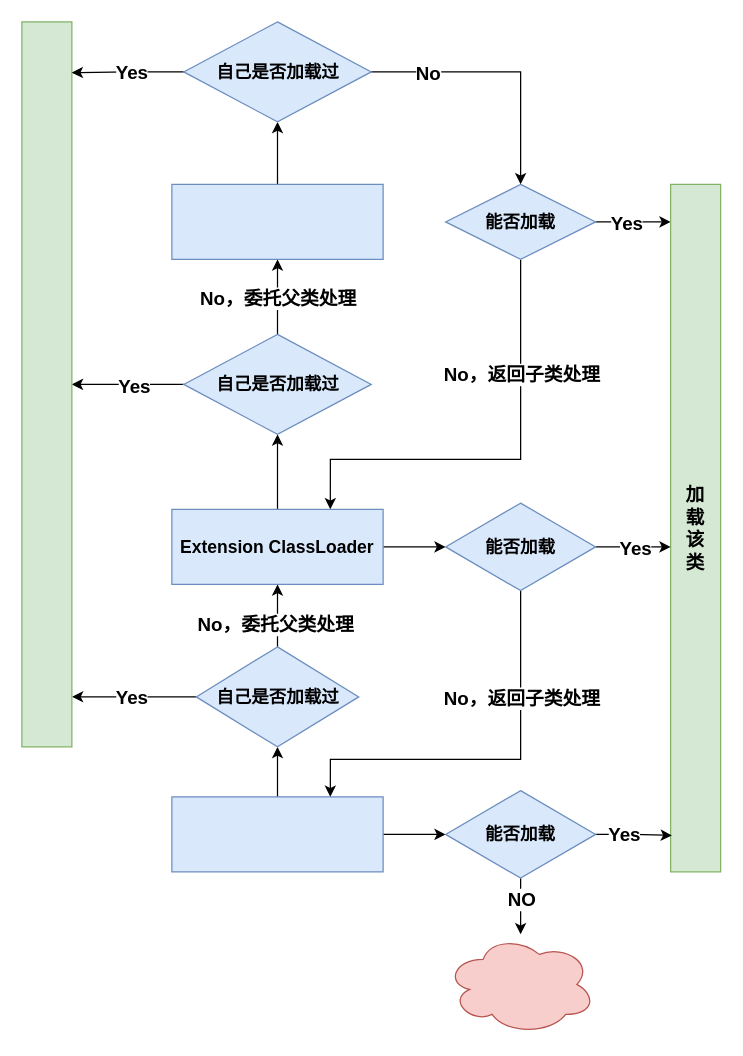
Image size: 743x1056. Some labels were removed from this diagram. The box of each missing label's shape, as (x1, y1, x2, y2) in pixels:
Application ClassLoader: (171, 796, 383, 872)
Bootstrap ClassLoader: (171, 183, 383, 259)
加载失败: (444, 933, 596, 1034)
已 加 载 ， 不 在 重 复 加 载: (21, 21, 72, 747)
